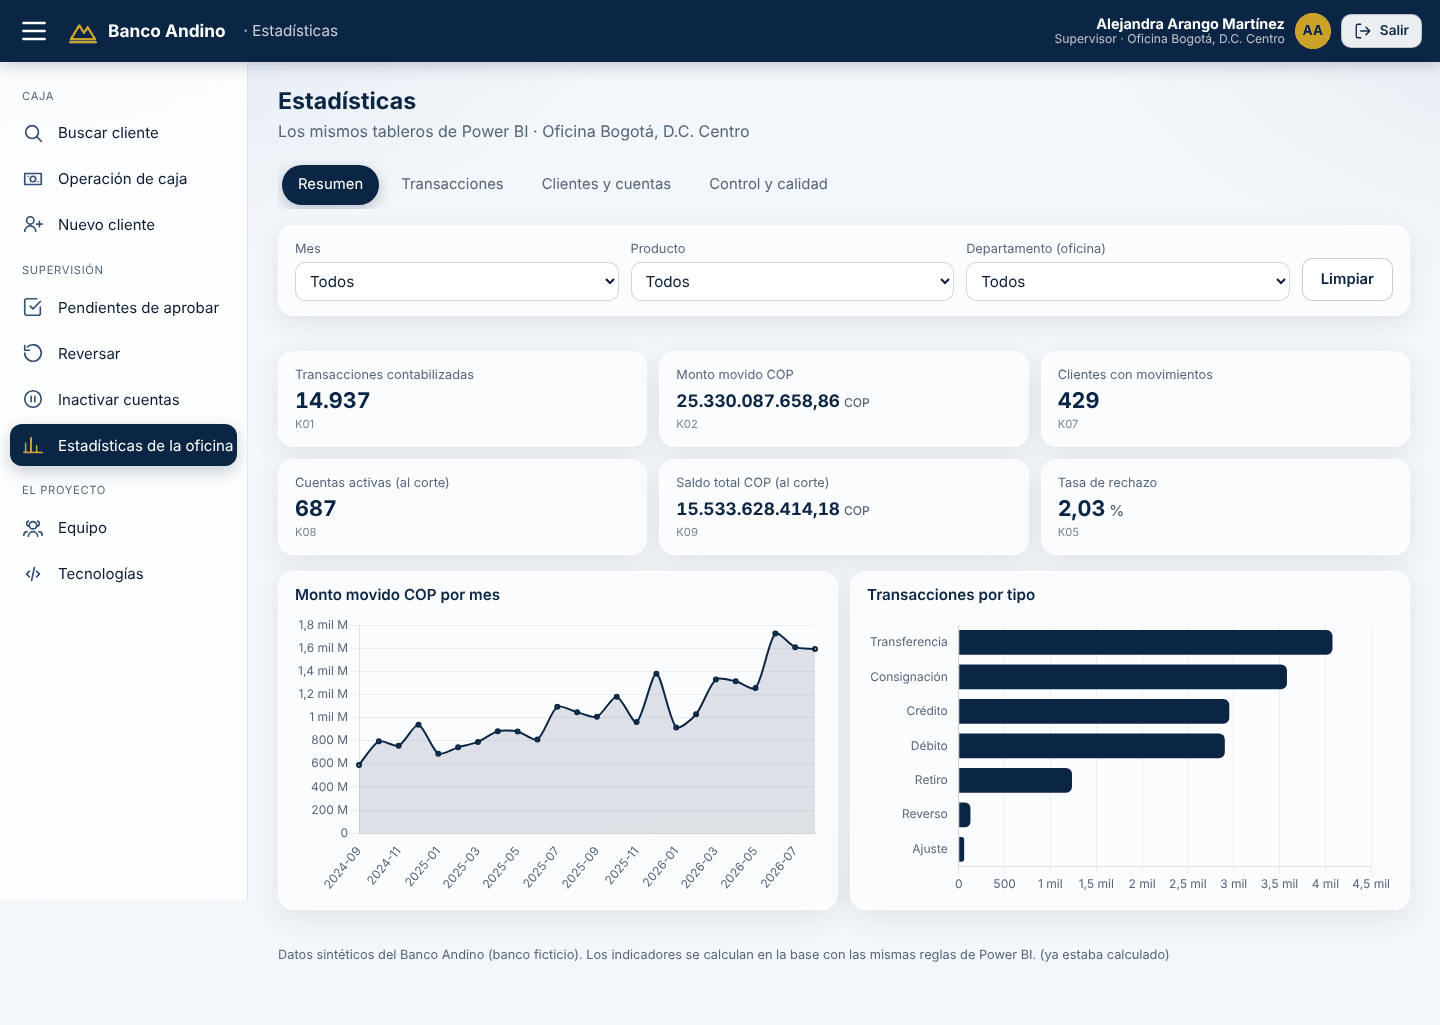

What the dashboard file says about the page in this screenshot:
{"tool":"powerbi","page":{"name":"Resumen","canvas":[1280,720],"ordinal":0},"visuals":[{"type":"textbox","box":[24,12,520,48],"z":0},{"type":"slicer","title":"Mes","fields":{"Values":["bi dim_fecha.anio_mes"]},"box":[600,10,210,58],"z":1000},{"type":"slicer","title":"Producto","fields":{"Values":["bi dim_producto.producto"]},"box":[825,10,210,58],"z":2000},{"type":"slicer","title":"Departamento (oficina)","fields":{"Values":["bi dim_oficina.departamento"]},"box":[1050,10,210,58],"z":3000},{"type":"card","fields":{"Values":["bi fact_transaccion.K01 Transacciones contabilizadas"]},"box":[24,84,195.3,96],"z":10000},{"type":"card","fields":{"Values":["bi fact_transaccion.K02 Monto movido COP"]},"box":[231.3,84,195.3,96],"z":11000},{"type":"card","fields":{"Values":["bi fact_transaccion.K07 Clientes con movimientos"]},"box":[438.7,84,195.3,96],"z":12000},{"type":"card","fields":{"Values":["bi fact_saldo_cuenta.K08 Cuentas activas"]},"box":[646,84,195.3,96],"z":13000},{"type":"card","fields":{"Values":["bi fact_saldo_cuenta.K09 Saldo total COP"]},"box":[853.3,84,195.3,96],"z":14000},{"type":"card","fields":{"Values":["bi fact_transaccion.K05 Tasa de rechazo %"]},"box":[1060.7,84,195.3,96],"z":15000},{"type":"lineChart","title":"Monto movido COP por mes","fields":{"Category":["bi dim_fecha.anio_mes"],"Y":["bi fact_transaccion.K02 Monto movido COP"]},"box":[24,196,760,500],"z":20000},{"type":"barChart","title":"Transacciones por tipo","fields":{"Category":["bi dim_tipo_transaccion.tipo"],"Y":["bi fact_transaccion.K01 Transacciones contabilizadas"]},"box":[800,196,456,500],"z":21000}]}

Visuals, with their boxes on the page's 1280x720 design canvas (x1, y1, x2, y2). These are canvas units, not pixel positions in the 1440x1025 screenshot, which may show the page scaled, cropped or inside an application window:
textbox: 24 12 544 60
"Mes" slicer: 600 10 810 68
"Producto" slicer: 825 10 1035 68
"Departamento (oficina)" slicer: 1050 10 1260 68
card - bi fact_transaccion.K01 Transacciones contabilizadas: 24 84 219 180
card - bi fact_transaccion.K02 Monto movido COP: 231 84 427 180
card - bi fact_transaccion.K07 Clientes con movimientos: 439 84 634 180
card - bi fact_saldo_cuenta.K08 Cuentas activas: 646 84 841 180
card - bi fact_saldo_cuenta.K09 Saldo total COP: 853 84 1049 180
card - bi fact_transaccion.K05 Tasa de rechazo %: 1061 84 1256 180
"Monto movido COP por mes" lineChart: 24 196 784 696
"Transacciones por tipo" barChart: 800 196 1256 696
